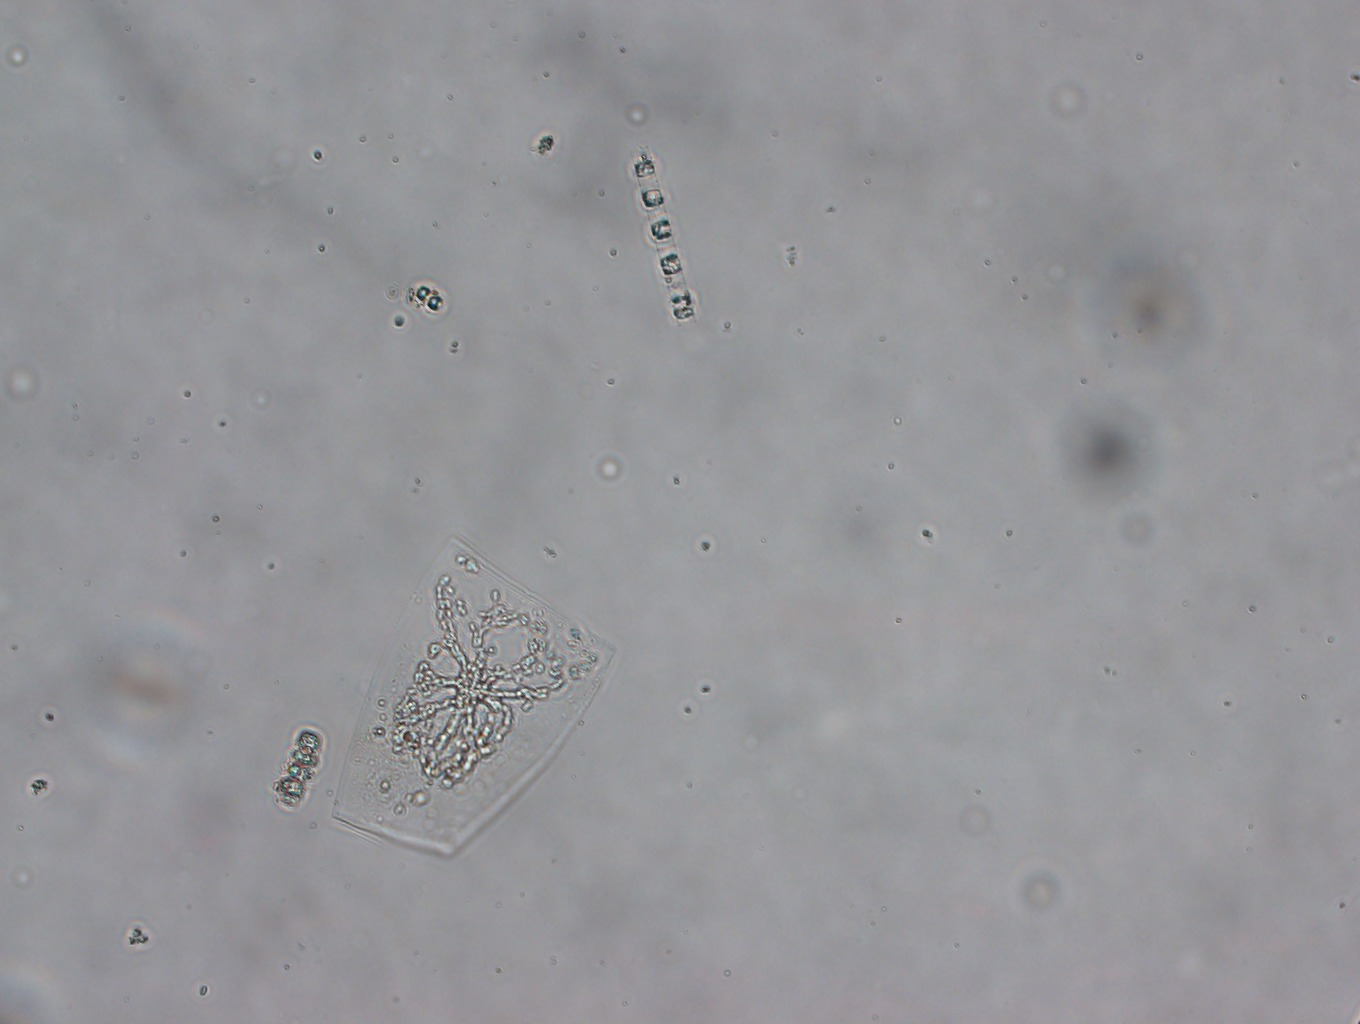helicotheca: (330, 537, 615, 859)
skeletonema: (633, 155, 696, 328), (276, 728, 323, 806)
